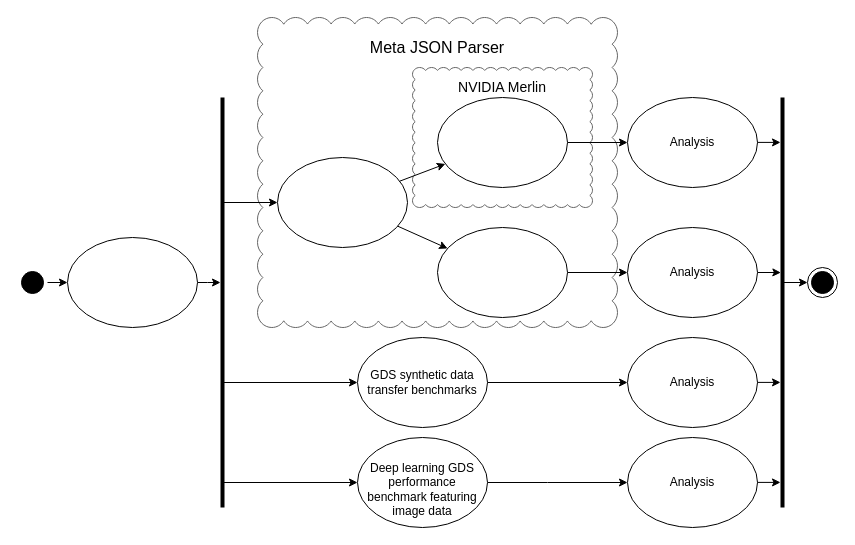
Image size: 855x545. Some labels were removed from this diagram. Here are the shapes that lost their labels. From the top down, the box of each, then its label:
(436, 96, 568, 188): Deep learning GDS, multi-GPU, multi-node performance benchmarks
(276, 156, 408, 248): Integration of the Meta JSON Parser with RAPIDS
(66, 236, 198, 328): GDS installation on the cluster
(436, 226, 568, 318): Standalone data transfer GDS performance benchmarks
